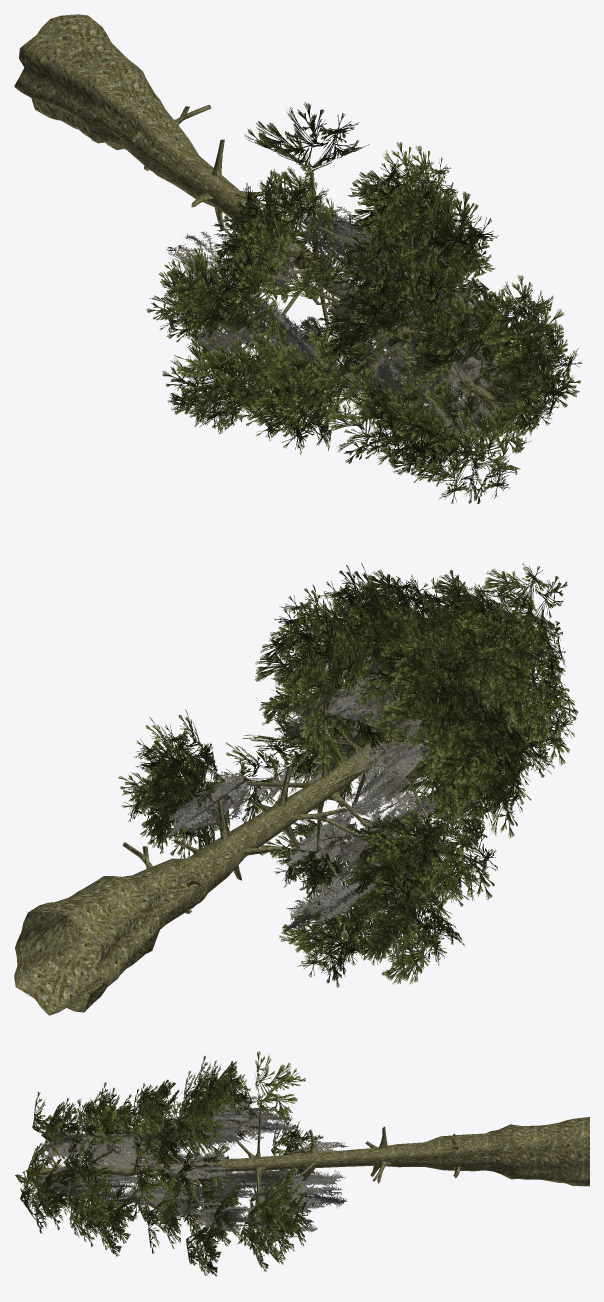
Rendered from flora_bc_tree_02.obj.
3 views of the same model, one above another, from view 1: azimuth 30°, elevation 25°; view 2: azimuth 150°, elevation 25°; view 3: azimuth 270°, elevation 25° (orthographic). The views are drawn at different scales.
Visible parts, largest first — view 1: Tri None_BaldCypressN 0, Tri None_BaldCypressN.001 0, None_BaldCypressN.002 3, Tri None_BaldCypressN 2, Tri None_BaldCypressN 1, Tri None_BaldCypressN.001 2; view 2: Tri None_BaldCypressN 0, None_BaldCypressN.002 3, Tri None_BaldCypressN.001 0, Tri None_BaldCypressN 1, Tri None_BaldCypressN 2, Tri None_BaldCypressN.001 1, Tri None_BaldCypressN.001 2; view 3: Tri None_BaldCypressN 0, None_BaldCypressN.002 3, Tri None_BaldCypressN.001 0, Tri None_BaldCypressN 2, Tri None_BaldCypressN 1, Tri None_BaldCypressN.001 2, Tri None_BaldCypressN.001 1.
Part boxes in pixels (<box>): Tri None_BaldCypressN 0: <box>146,102,582,503</box>; Tri None_BaldCypressN.001 0: <box>150,105,580,503</box>; None_BaldCypressN.002 3: <box>14,14,544,458</box>; Tri None_BaldCypressN 2: <box>166,206,510,440</box>; Tri None_BaldCypressN 1: <box>199,210,512,422</box>; Tri None_BaldCypressN.001 2: <box>169,207,504,437</box>; Tri None_BaldCypressN 0: <box>118,563,577,987</box>; None_BaldCypressN.002 3: <box>14,606,551,1015</box>; Tri None_BaldCypressN.001 0: <box>118,564,577,986</box>; Tri None_BaldCypressN 1: <box>166,652,497,931</box>; Tri None_BaldCypressN 2: <box>174,622,529,929</box>; Tri None_BaldCypressN.001 1: <box>168,659,491,930</box>; Tri None_BaldCypressN.001 2: <box>174,640,529,927</box>; Tri None_BaldCypressN 0: <box>15,1051,323,1276</box>; None_BaldCypressN.002 3: <box>24,1075,589,1252</box>; Tri None_BaldCypressN.001 0: <box>16,1055,321,1275</box>; Tri None_BaldCypressN 2: <box>35,1096,348,1237</box>; Tri None_BaldCypressN 1: <box>37,1110,347,1232</box>; Tri None_BaldCypressN.001 2: <box>35,1096,344,1231</box>; Tri None_BaldCypressN.001 1: <box>38,1111,346,1231</box>.
Bounding box in the file's own units: 1042 × 1019 × 2275.
7 materials, 7 textured.
